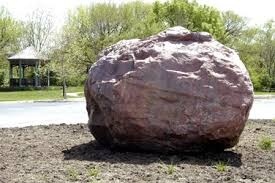obstacle: (85, 26, 252, 151)
